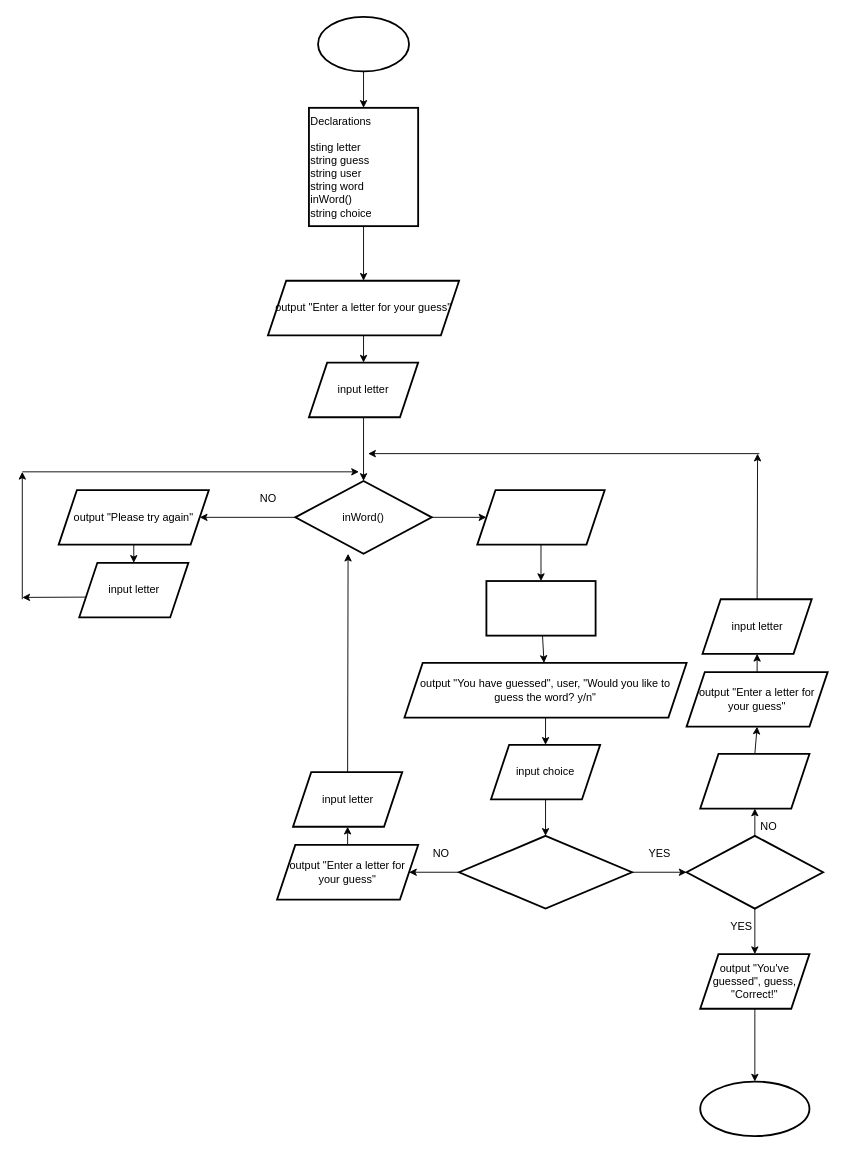
Some shapes in this 844 by 1152 pixel diagram are drawn without their labels. Here are the shapes that lost their labels. From the top down, the centre of each, then its label:
(x=363, y=43): start
(x=540, y=517): output "There is a ", letter
(x=540, y=608): user += letter
(x=754, y=781): output "Try again"
(x=545, y=871): choice == 'y'
(x=754, y=871): guess == word
(x=754, y=1108): stop
